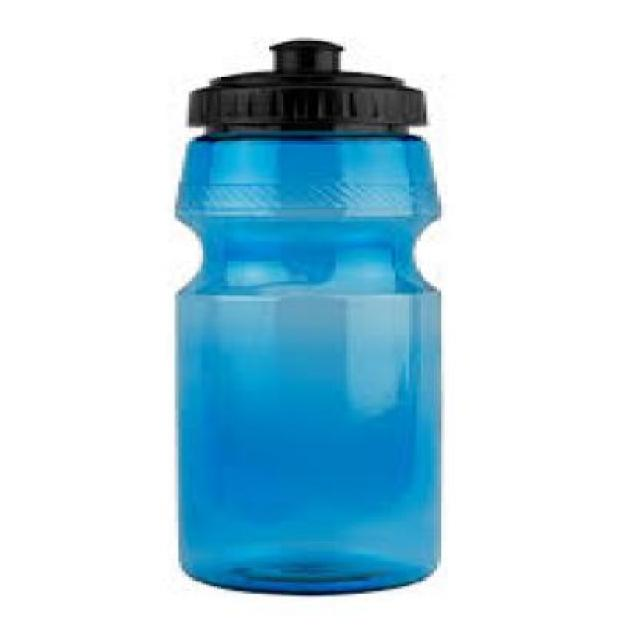Drinking: (153, 28, 465, 600)
